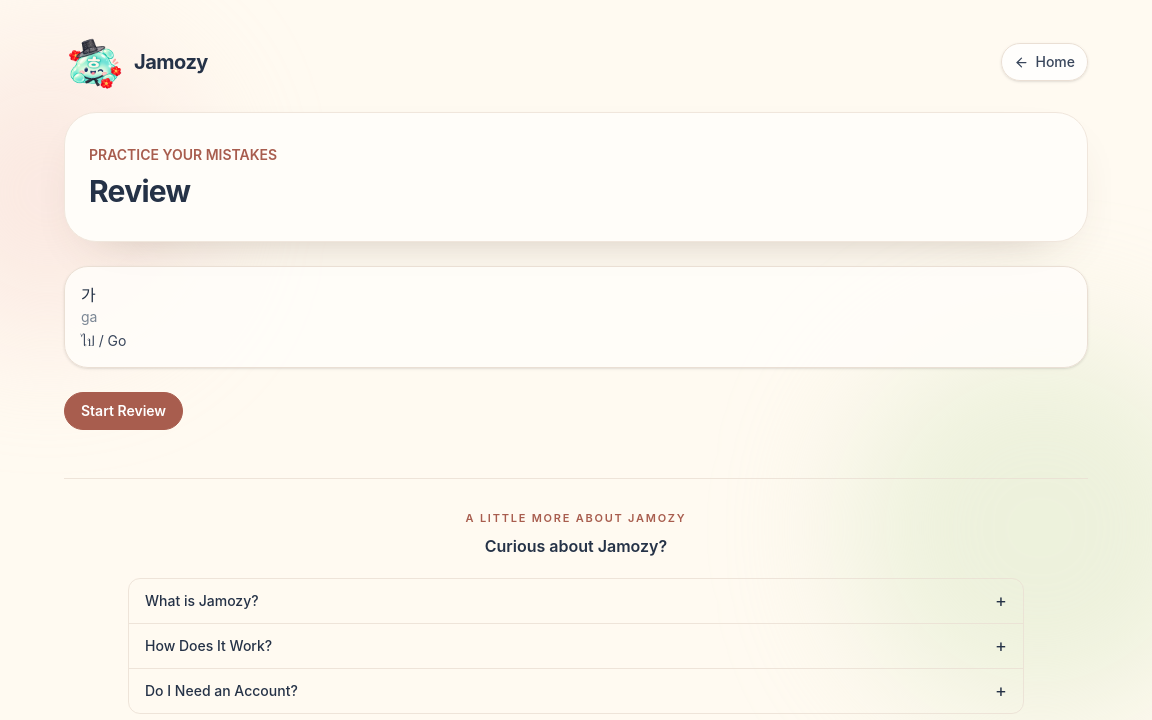
Test: ReviewPage › starts the typing session with raw items and its keyboard settings
Click the button "Start Review": (124, 411) [64,392,183,430]
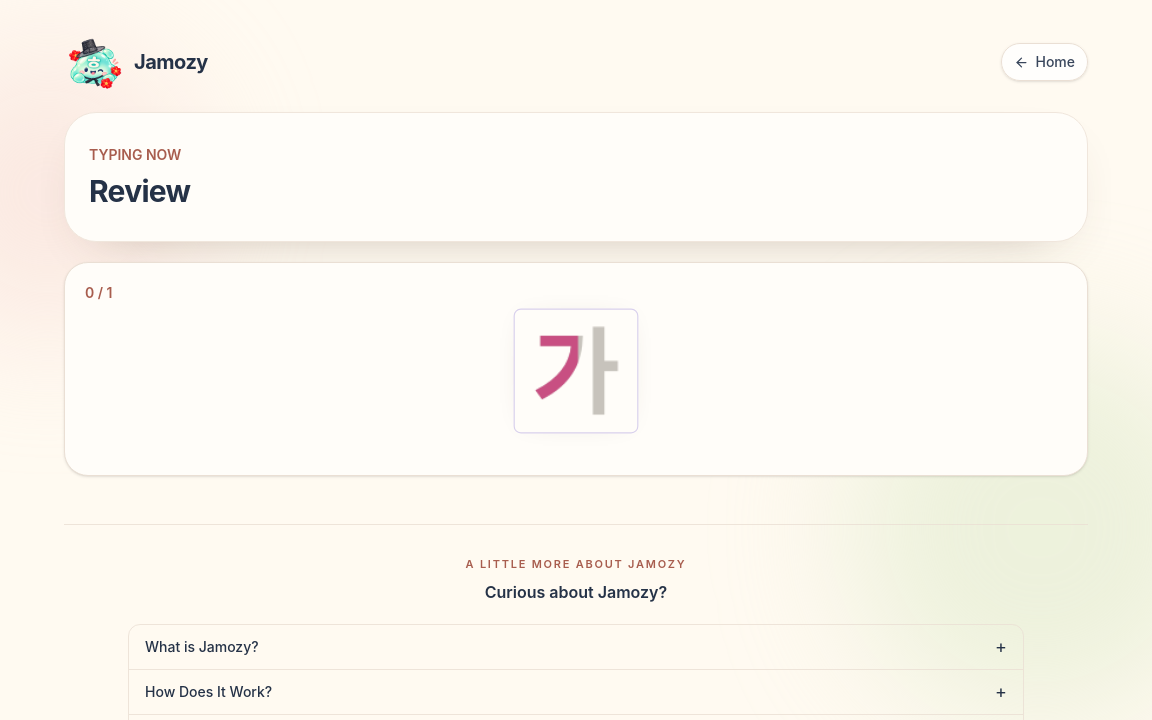
Expected: the text "0 / 1" is shown, [85,284,112,301]
